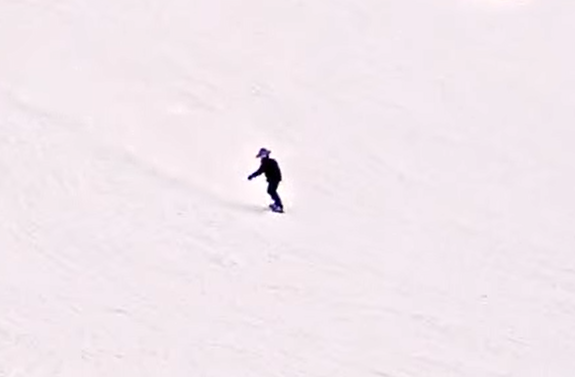snowboarder: (245, 143, 288, 215)
